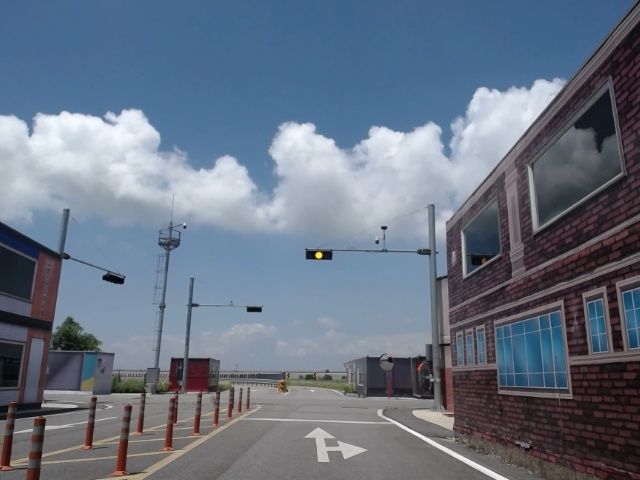orange_3: (305, 249, 334, 262)
